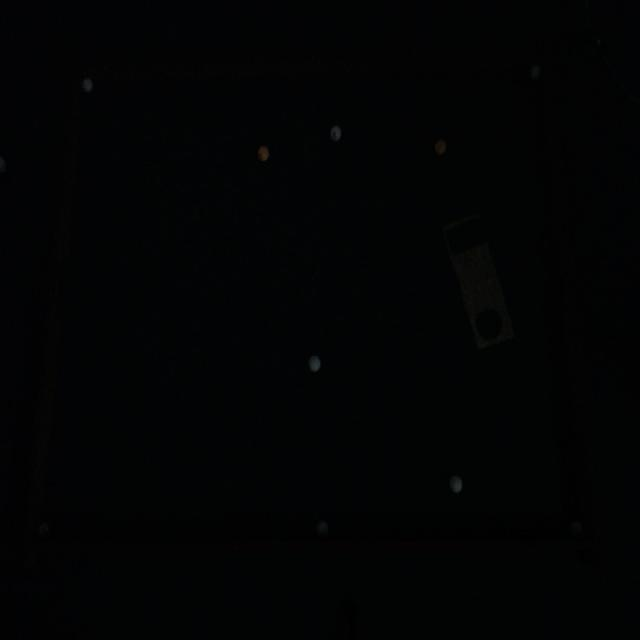orange_ball: (34, 521, 51, 541), (433, 138, 447, 156), (257, 145, 270, 162)
white_ball: (569, 519, 585, 540), (316, 518, 330, 538), (449, 474, 463, 494), (81, 74, 95, 92), (529, 62, 542, 80), (308, 355, 321, 372), (331, 125, 342, 141)
